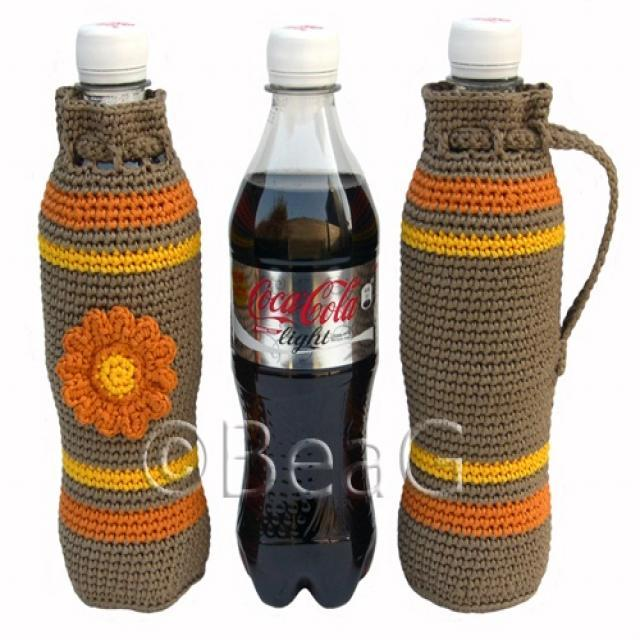plastic_bottle: (229, 26, 379, 609)
